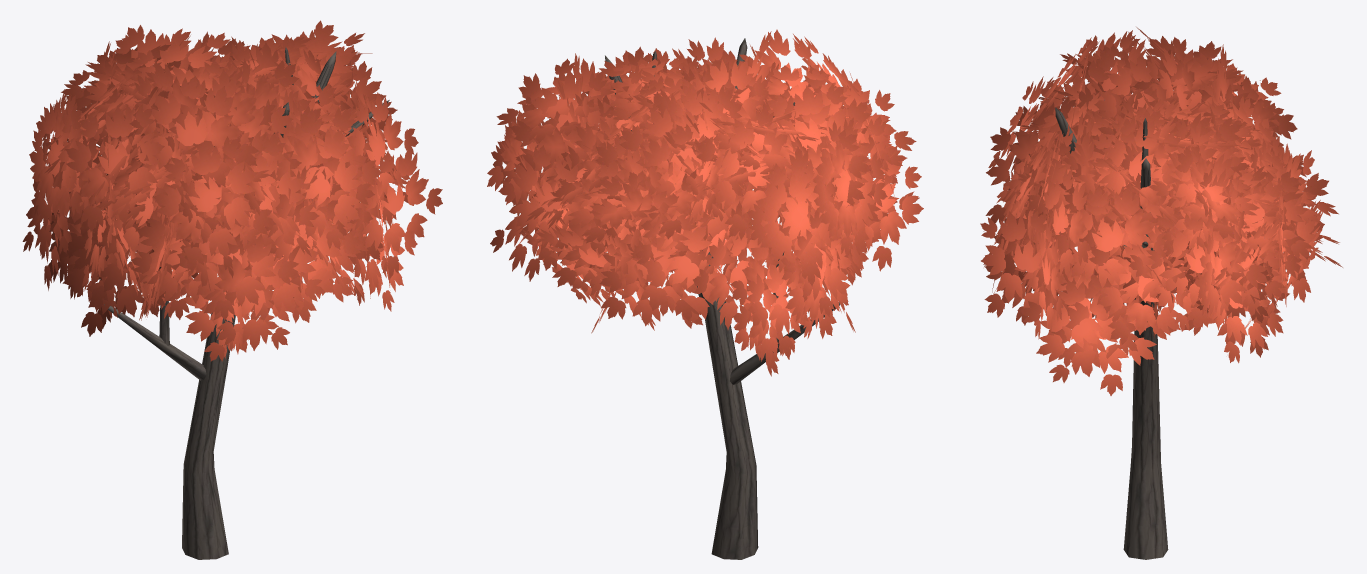
The model's file is maple_3.glb.
3 views of the same model, side by side, from view 1: azimuth 30°, elevation 25°; view 2: azimuth 150°, elevation 25°; view 3: azimuth 270°, elevation 25° (orthographic). The views are drawn at different scales.
Parts seen in each view (by area): view 1: MapleTree_4; view 2: MapleTree_4; view 3: MapleTree_4.
Part boxes in pixels (left/top/right/bottom): MapleTree_4: left=22, top=20, right=442, bottom=559; MapleTree_4: left=487, top=29, right=923, bottom=559; MapleTree_4: left=980, top=27, right=1342, bottom=559.
Size of the model in its own units: 2.77 by 3.59 by 2.43.
Materials: 2 (2 with a texture image).
